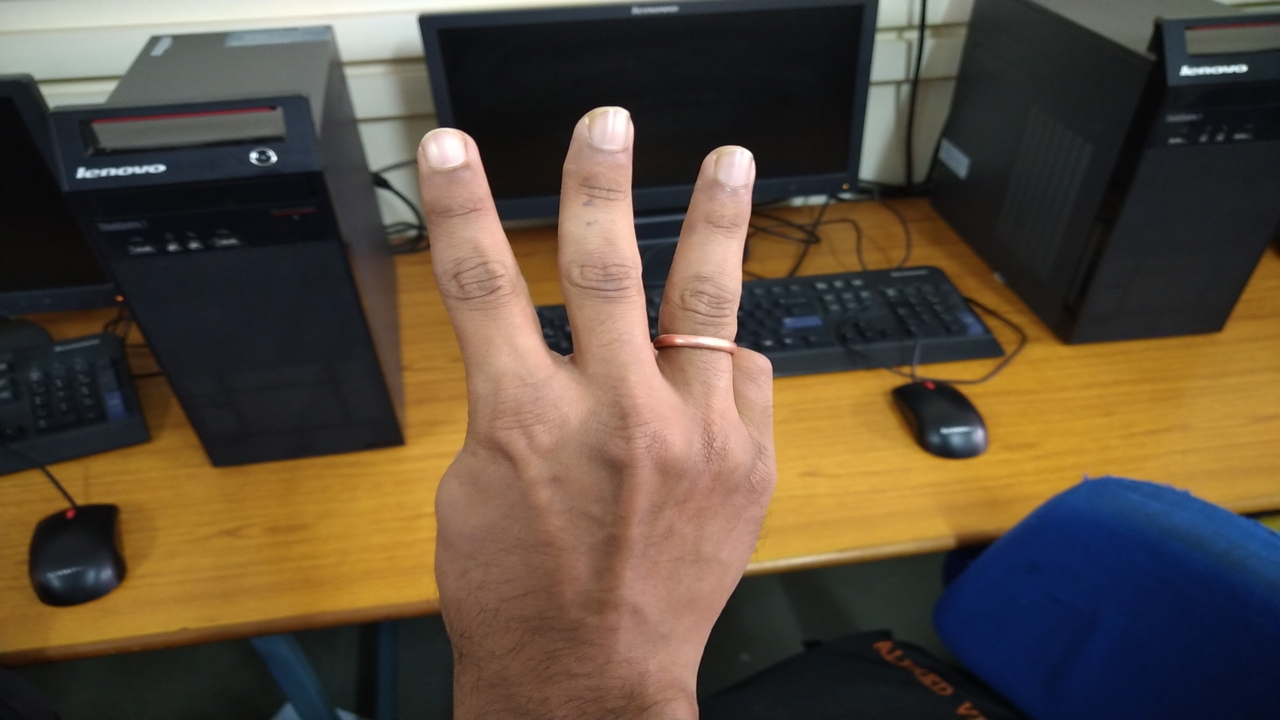fingertip: (410, 120, 478, 190), (562, 102, 638, 164), (692, 140, 766, 198)
